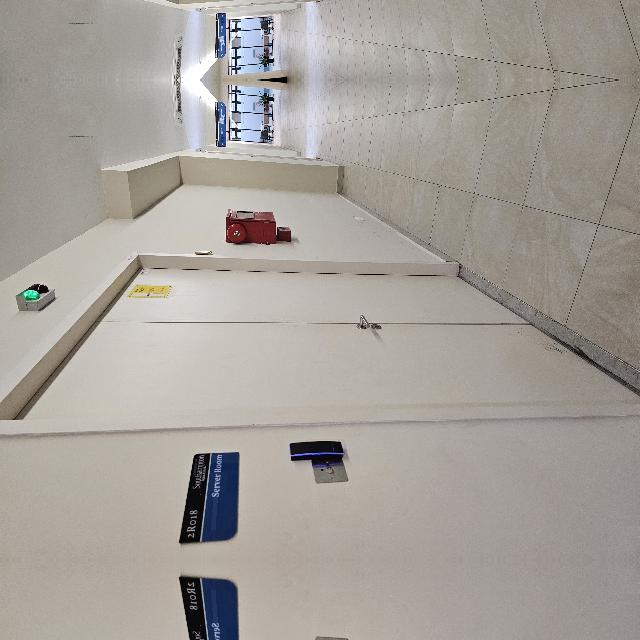door: (116, 84, 294, 640), (116, 418, 294, 640), (116, 0, 294, 76)
